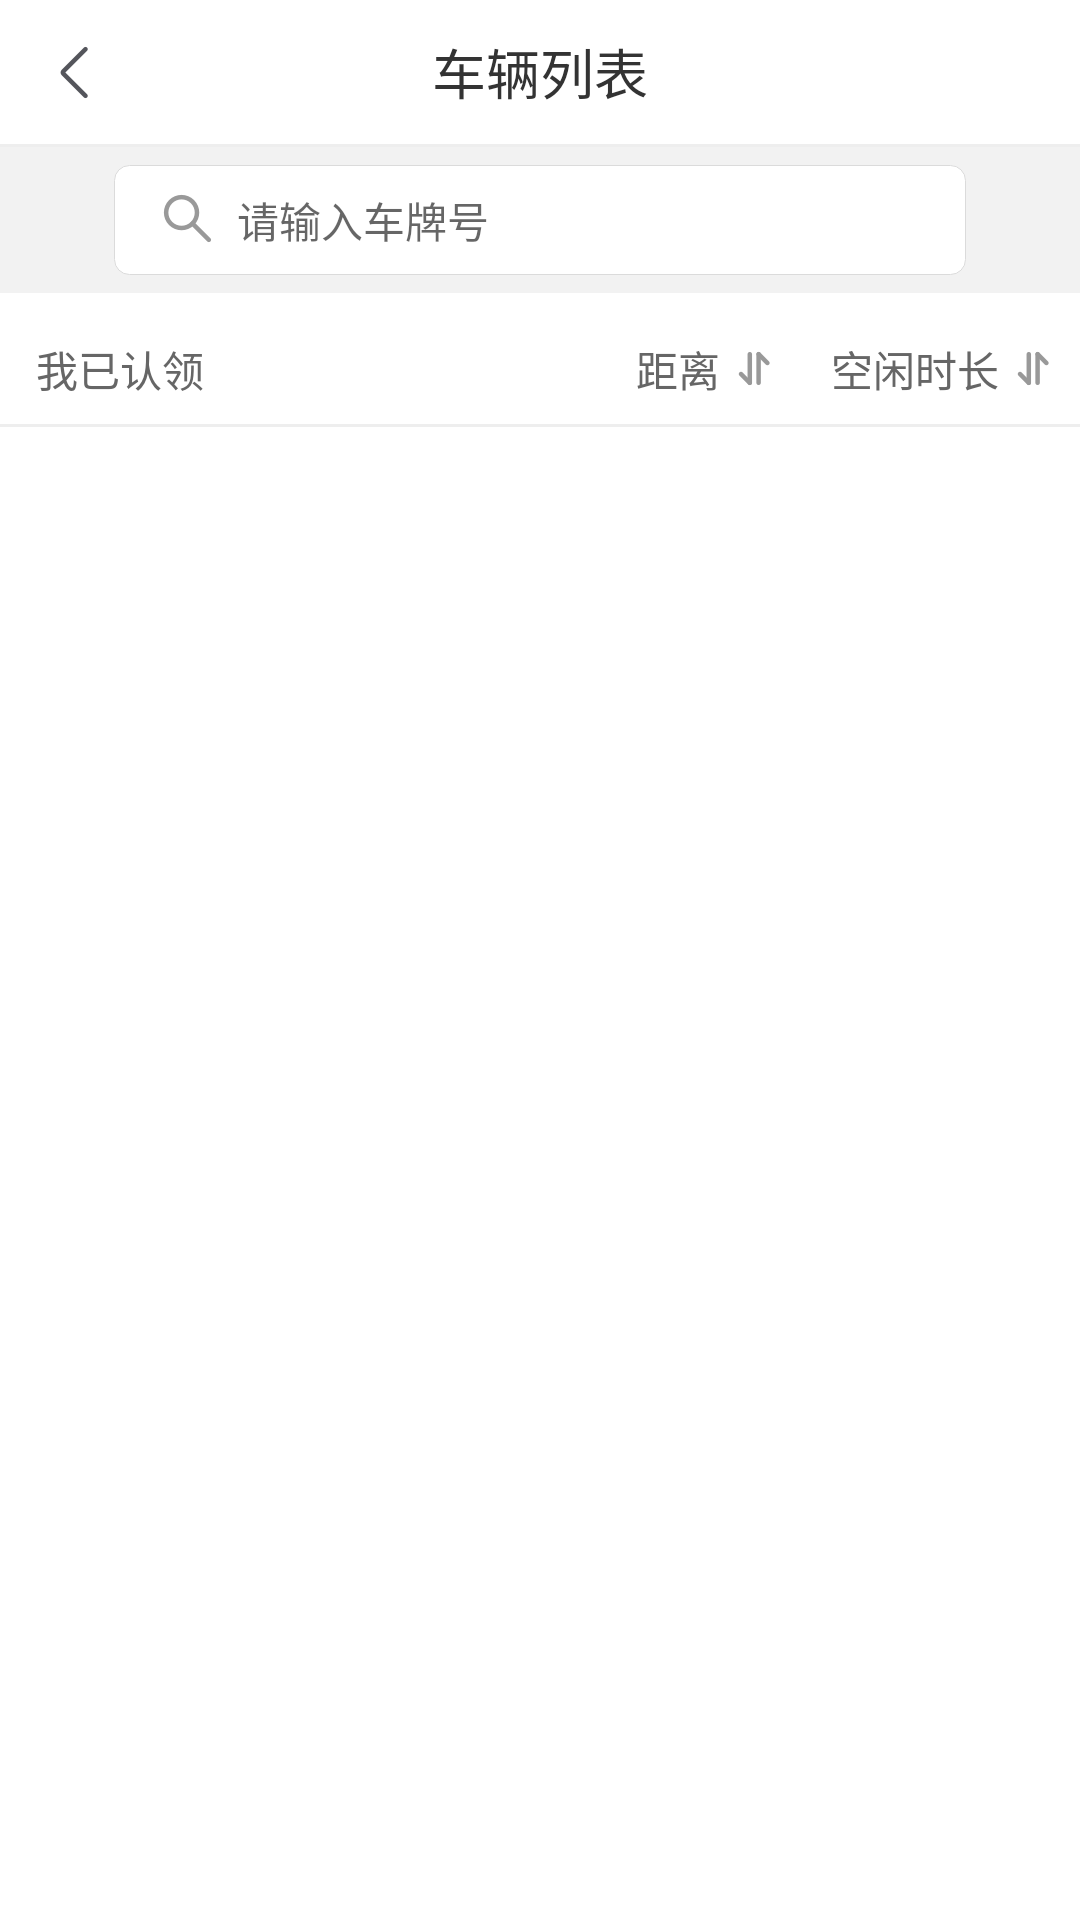

Icons on this 1080px×1920px Android screen, each with its box as (x1, y1, x2, y2):
back: (60, 47, 88, 98)
